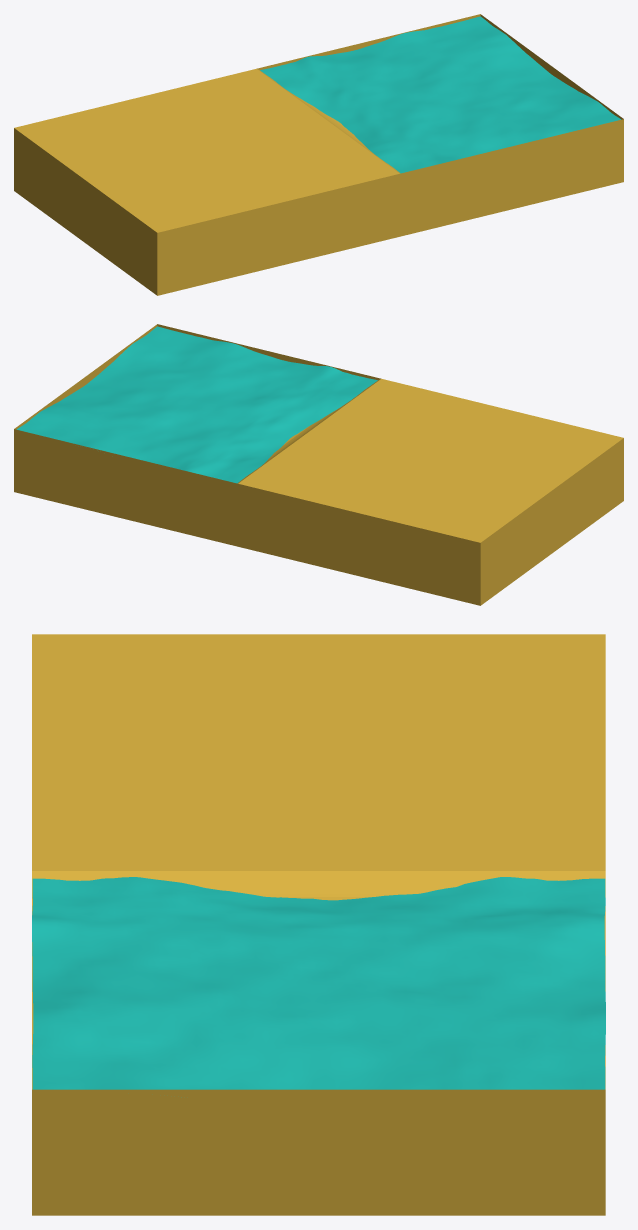
File: beach.glb
3 views of the same model, one above another, from view 1: azimuth 30°, elevation 25°; view 2: azimuth 150°, elevation 25°; view 3: azimuth 270°, elevation 25° (orthographic). The views are drawn at different scales.
Parts seen in each view (by area): view 1: Cube.001, Cube; view 2: Cube.001, Cube; view 3: Cube.001, Cube.
Boxes of the visible parts, box(x1,y1,x2,y2) form: Cube.001: box(14, 14, 623, 295); Cube: box(260, 16, 620, 173); Cube.001: box(14, 324, 623, 605); Cube: box(17, 326, 377, 483); Cube.001: box(32, 634, 605, 1215); Cube: box(32, 877, 605, 1097).
Size of the model in its own units: 3.76 by 0.4848 by 2.
